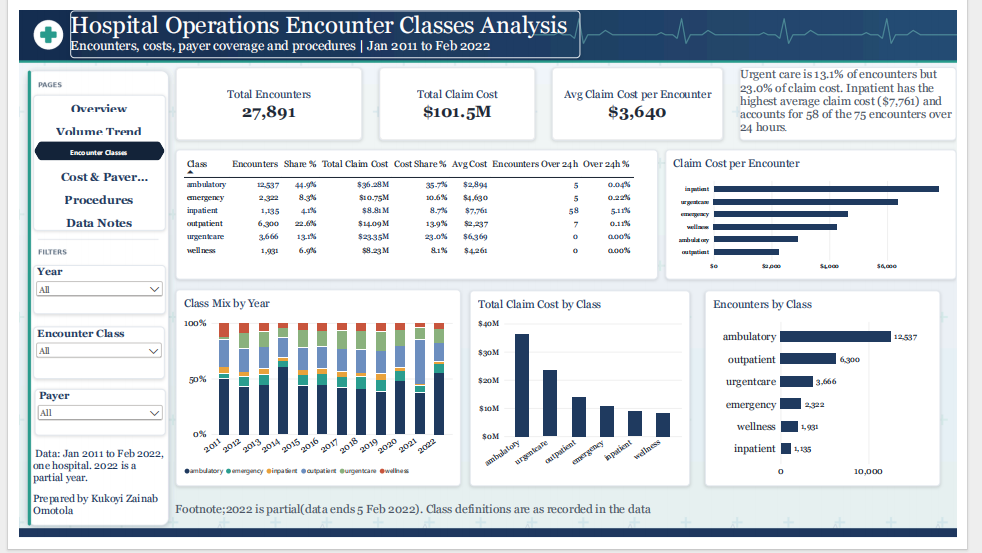

This screenshot's page, from the dashboard's own definition file:
{"tool":"powerbi","page":{"name":"Encounter Classes","canvas":[1920,1080],"ordinal":2},"visuals":[{"type":"textbox","box":[104.4,0,1044.3,97.3],"z":0},{"type":"slicer","fields":{"Values":["DateTable.Year"]},"box":[28.5,522.1,270.6,99.7],"z":1000},{"type":"slicer","fields":{"Values":["payers.NAME"]},"box":[30.9,776.1,268.2,94.9],"z":2000},{"type":"cardVisual","fields":{"Data":["_Measures.Total Encounters"]},"box":[320.4,116.3,382.1,149.5],"z":3000},{"type":"cardVisual","fields":{"Data":["_Measures.Total Claim Cost"]},"box":[736.5,116.3,320.4,149.5],"z":4000},{"type":"barChart","title":"Claim Cost per Encounter","fields":{"Category":["encounters.ENCOUNTERCLASS"],"Y":["_Measures.Avg Claim Cost per Encounter"]},"box":[1324.3,284.8,595.7,265.8],"z":5000},{"type":"barChart","title":" Encounters by Class","fields":{"Category":["encounters.ENCOUNTERCLASS"],"Y":["_Measures.Total Encounters"]},"box":[1405,574.3,481.8,401.1],"z":6000},{"type":"clusteredColumnChart","title":"Total Claim Cost by Class","fields":{"Category":["encounters.ENCOUNTERCLASS"],"Y":["_Measures.Total Claim Cost"]},"box":[923.2,574.3,450.9,401.1],"z":7000},{"type":"tableEx","title":"Claim Cost by Payers","fields":{"Values":["encounters.ENCOUNTERCLASS","_Measures.Total Encounters","_Measures.Encounter Share %","_Measures.Total Claim Cost","_Measures.Claim Cost Share %","_Measures.Avg Claim Cost per Encounter","_Measures.Encounters Over 24h","_Measures.Over 24h %"]},"box":[320.4,284.8,987.3,265.8],"z":8000},{"type":"textbox","box":[320.4,1008.7,1003.9,45.1],"z":9000},{"type":"textbox","box":[28.5,894.7,270.6,159],"z":10000},{"type":"pageNavigator","box":[28.5,173.3,270.6,277.7],"z":11000},{"type":"cardVisual","fields":{"Data":["_Measures.Avg Claim Cost per Encounter"]},"box":[1090.9,116.3,351.2,149.5],"z":12000},{"type":"hundredPercentStackedColumnChart","title":"Class Mix by Year","fields":{"Category":["DateTable.Year"],"Series":["encounters.ENCOUNTERCLASS"],"Y":["_Measures.Total Encounters"]},"box":[320.4,572,583.8,403.5],"z":13000},{"type":"textbox","box":[1476.2,116.3,443.8,149.5],"z":14000},{"type":"slicer","fields":{"Values":["encounters.ENCOUNTERCLASS"]},"box":[28.5,647.9,268.2,106.8],"z":15000}]}

Visuals, with their boxes in screenshot pixels (x1, y1, x2, y2), scaled from the page's 1920x1080 canvas onto the 982x553 screenshot:
textbox: 53,0,588,50
slicer - DateTable.Year: 15,267,153,318
slicer - payers.NAME: 16,397,153,446
cardVisual - _Measures.Total Encounters: 164,60,359,136
cardVisual - _Measures.Total Claim Cost: 377,60,541,136
"Claim Cost per Encounter" barChart: 677,146,981,282
" Encounters by Class" barChart: 719,294,965,499
"Total Claim Cost by Class" clusteredColumnChart: 472,294,703,499
"Claim Cost by Payers" tableEx: 164,146,669,282
textbox: 164,516,677,540
textbox: 15,458,153,540
pageNavigator: 15,89,153,231
cardVisual - _Measures.Avg Claim Cost per Encounter: 558,60,738,136
"Class Mix by Year" hundredPercentStackedColumnChart: 164,293,462,499
textbox: 755,60,981,136
slicer - encounters.ENCOUNTERCLASS: 15,332,152,386
